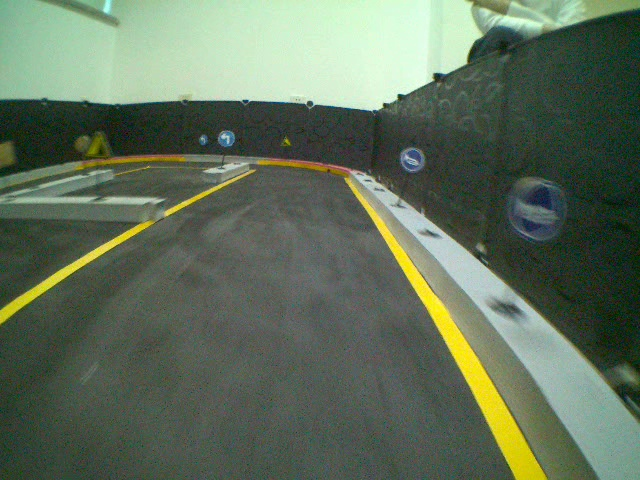fast: (84, 129, 114, 160), (278, 136, 293, 149)
horn: (505, 175, 570, 243), (399, 146, 425, 172)
turn: (215, 129, 235, 147), (197, 134, 208, 146)
